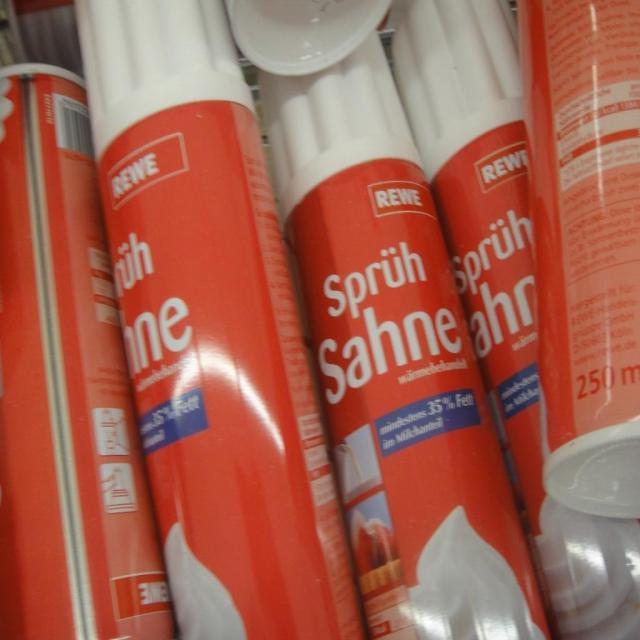Cream: (77, 0, 362, 638), (260, 32, 548, 638), (393, 0, 639, 638), (0, 64, 173, 637)
